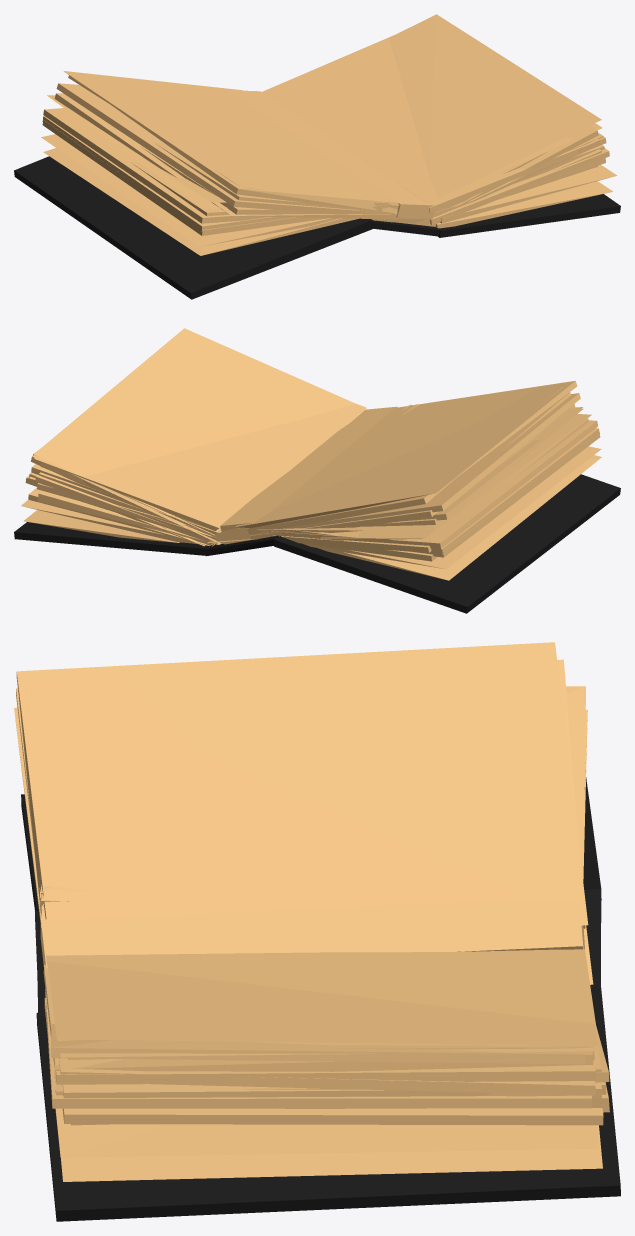
The picture shows the model from 3 angles, top to bottom: view 1: azimuth 30°, elevation 25°; view 2: azimuth 150°, elevation 25°; view 3: azimuth 270°, elevation 25°; orthographic projection. The views are drawn at different scales.
Visible parts, largest first — view 1: group_666626068, group_2143806105, mesh_1497919402, group_258392646, group_93388917, mesh_1654725082, mesh_675331827, mesh_1087318450, mesh_25947490, group_1539901544, mesh_32449690, group_1981141617 (+1 smaller); view 2: group_666626068, group_2143806105, mesh_1497919402, group_93388917, group_258392646, mesh_1654725082, group_1981141617, mesh_675331827, group_653152603, mesh_1087318450, mesh_25947490, group_1539901544 (+2 smaller); view 3: group_2143806105, group_666626068, mesh_1654725082, mesh_675331827, group_1981141617, mesh_25947490, group_1539901544, mesh_1087318450, mesh_32449690, group_93388917, mesh_1497919402, group_653152603 (+1 smaller).
Part boxes in pixels (box(x1,y1,x2,y2)): group_666626068: box(262, 14, 606, 213); group_2143806105: box(54, 71, 398, 219); mesh_1497919402: box(14, 156, 373, 299); group_258392646: box(41, 116, 382, 255); group_93388917: box(42, 95, 399, 235); mesh_1654725082: box(231, 90, 434, 219); mesh_675331827: box(438, 194, 620, 237); mesh_1087318450: box(435, 181, 612, 228); mesh_25947490: box(440, 165, 617, 223); group_1539901544: box(449, 125, 601, 210); mesh_32449690: box(430, 148, 609, 224); group_1981141617: box(429, 133, 605, 219); group_666626068: box(31, 328, 366, 535); group_2143806105: box(236, 380, 582, 539); mesh_1497919402: box(274, 474, 620, 613); group_93388917: box(257, 404, 600, 561); group_258392646: box(276, 428, 601, 580); mesh_1654725082: box(220, 406, 397, 531); group_1981141617: box(28, 472, 219, 546); mesh_675331827: box(14, 522, 213, 555); group_653152603: box(35, 458, 221, 544); mesh_1087318450: box(23, 510, 179, 542); mesh_25947490: box(21, 500, 192, 543); group_1539901544: box(29, 450, 212, 546); group_2143806105: box(14, 642, 588, 928); group_666626068: box(43, 949, 599, 1084); mesh_1654725082: box(40, 899, 582, 968); mesh_675331827: box(36, 987, 620, 1221); group_1981141617: box(59, 1051, 609, 1125); mesh_25947490: box(44, 998, 598, 1157); group_1539901544: box(51, 1024, 595, 1096); mesh_1087318450: box(61, 1125, 602, 1181); mesh_32449690: box(45, 989, 591, 1108); group_93388917: box(39, 686, 587, 927); mesh_1497919402: box(21, 777, 601, 911); group_653152603: box(68, 1027, 609, 1082).
Size of the model in its own units: 69.91 by 20.11 by 47.24.
